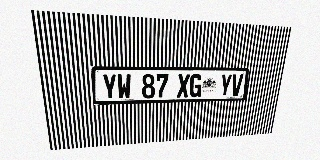7: (155, 74, 169, 98)
8: (142, 74, 155, 98)
G: (189, 74, 202, 97)
V: (230, 74, 244, 96)
W: (117, 74, 131, 99)
X: (177, 74, 190, 98)
Y: (102, 74, 117, 100), (219, 74, 232, 96)
